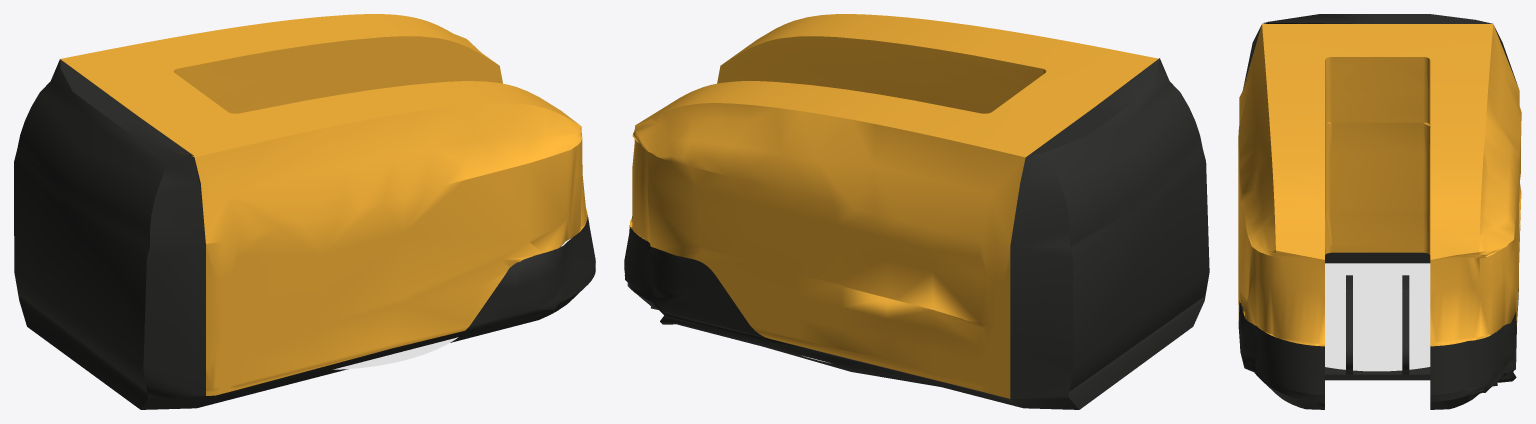
3 renders of one model, left to right at view 1: azimuth 30°, elevation 25°; view 2: azimuth 150°, elevation 25°; view 3: azimuth 270°, elevation 25°, orthographic. The views are drawn at different scales.
Visible parts, largest first — view 1: Rhinoceros_Binary_STL___Jul__9_2019__ (×3), Rhinoceros_Binary_STL___Dec__5_2020__; view 2: Rhinoceros_Binary_STL___Jul__9_2019__ (×3); view 3: Rhinoceros_Binary_STL___Jul__9_2019__ (×3), Rhinoceros_Binary_STL___Dec__5_2020__.
Boxes of the visible parts, bbox=[...] form: Rhinoceros_Binary_STL___Jul__9_2019__ (×3): bbox=[14, 14, 595, 409]; Rhinoceros_Binary_STL___Dec__5_2020__: bbox=[333, 337, 458, 369]; Rhinoceros_Binary_STL___Jul__9_2019__ (×3): bbox=[624, 14, 1209, 409]; Rhinoceros_Binary_STL___Jul__9_2019__ (×3): bbox=[1238, 14, 1521, 409]; Rhinoceros_Binary_STL___Dec__5_2020__: bbox=[1325, 263, 1430, 371].
Bounding box in the file's own units: 138 × 80.89 × 68.91.
